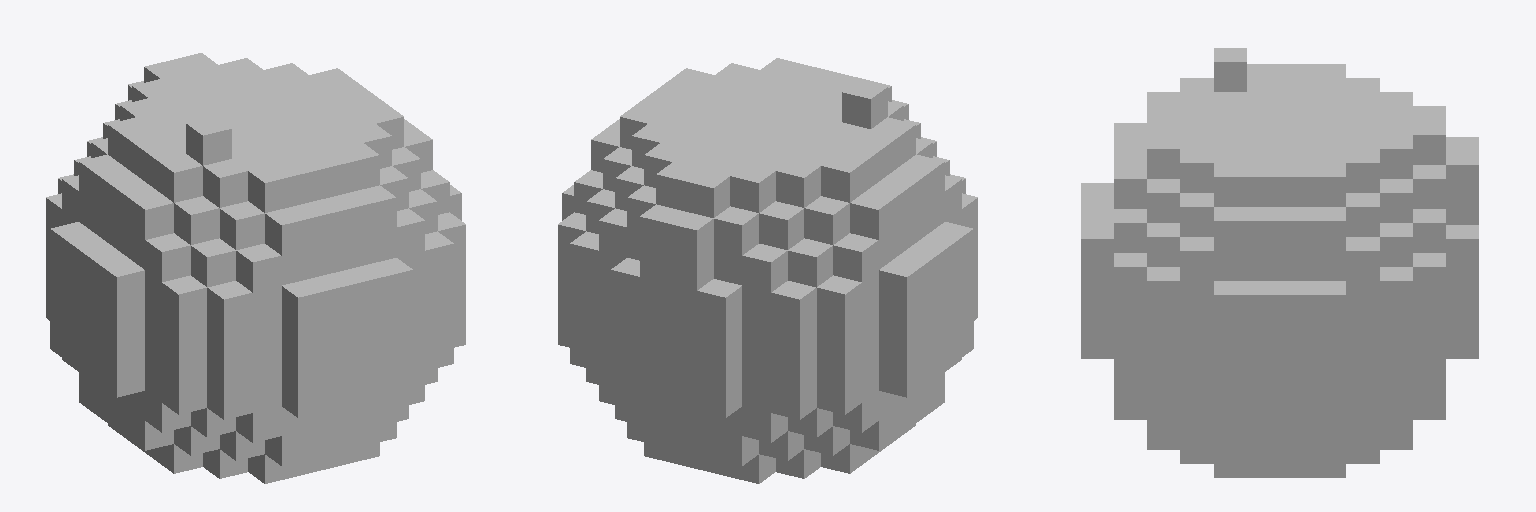
File: Snowman_Body_1.obj
3 views of the same model, side by side, from view 1: azimuth 30°, elevation 25°; view 2: azimuth 150°, elevation 25°; view 3: azimuth 270°, elevation 25° (orthographic).
Parts seen in each view (by area): view 1: object 1; view 2: object 1; view 3: object 1.
Part boxes in pixels (left/top/right/bottom): object 1: left=46, top=53, right=465, bottom=483; object 1: left=558, top=58, right=977, bottom=483; object 1: left=1081, top=48, right=1478, bottom=477.
Bounding box in the file's own units: 1.2 × 1.1 × 1.2.